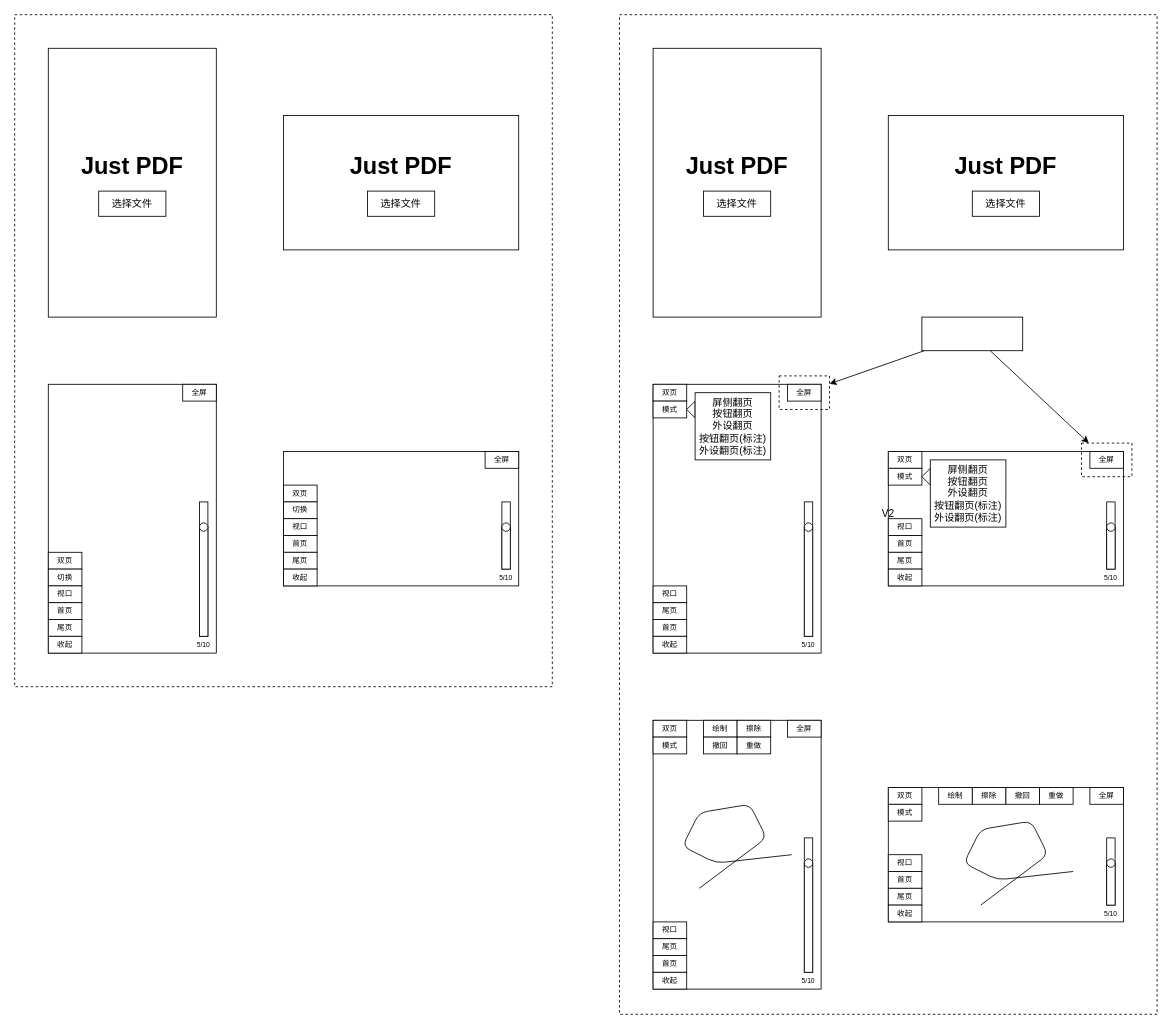
Image size: 1172x1029. Some labels were removed from this diagram. The shapes that lost their labels are listed below. From the top down, each one's box as (x1, y1, x2, y2) in pixels, then its label:
(14, 14, 552, 687): V1
(921, 316, 1023, 351): 仅在平板和2in1
